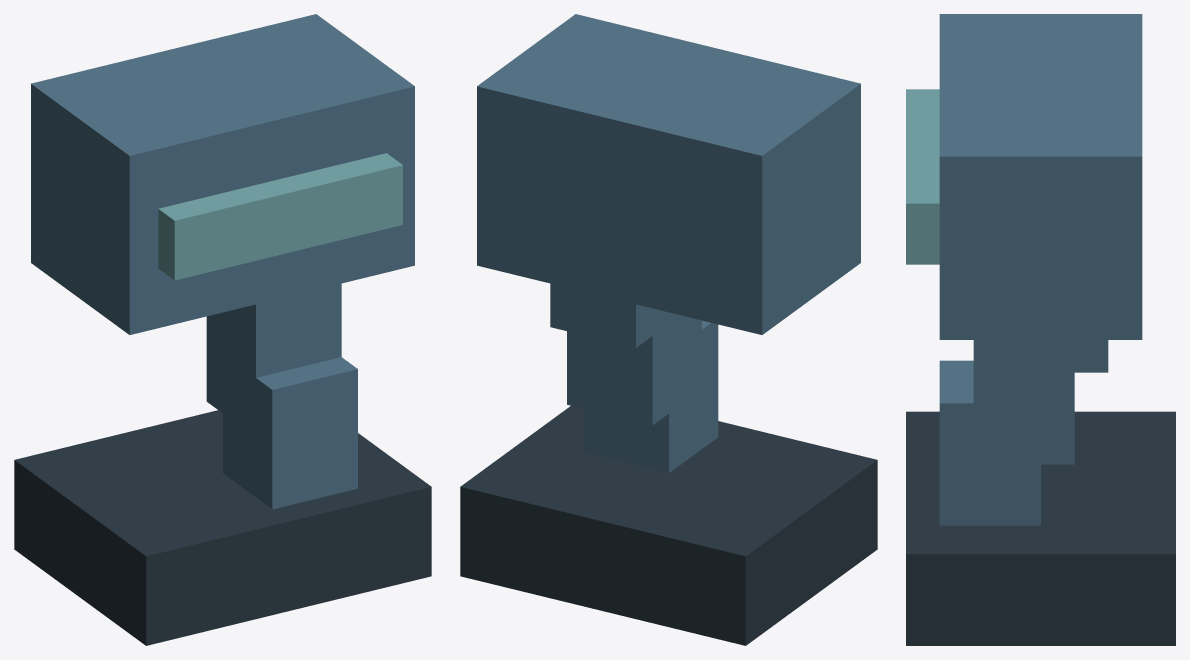
The model's file is security-17.glb.
The picture shows the model from 3 angles, left to right: view 1: azimuth 30°, elevation 25°; view 2: azimuth 150°, elevation 25°; view 3: azimuth 270°, elevation 25°; orthographic projection. The views are drawn at different scales.
Parts seen in each view (by area): view 1: Fingerprint scanner; view 2: Fingerprint scanner; view 3: Fingerprint scanner.
Boxes of the visible parts, left/top/right/bottom form: Fingerprint scanner: left=14, top=14, right=431, bottom=645; Fingerprint scanner: left=460, top=14, right=877, bottom=645; Fingerprint scanner: left=906, top=14, right=1175, bottom=645.
Size of the model in its own units: 0.8 by 1.28 by 0.64.
